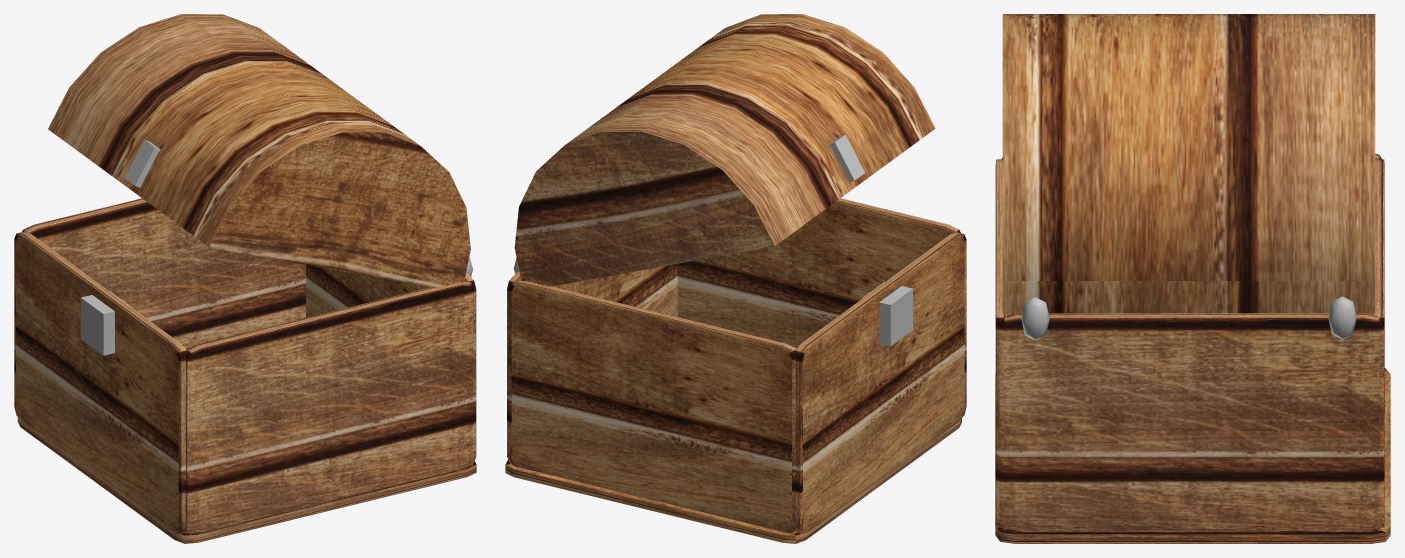
Rendered from TreasureChest_2_.fbx.
3 renders of one model, left to right at view 1: azimuth 30°, elevation 25°; view 2: azimuth 150°, elevation 25°; view 3: azimuth 270°, elevation 25°, orthographic. The views are drawn at different scales.
Visible parts, largest first — view 1: pCube10; view 2: pCube10; view 3: pCube10.
Boxes of the visible parts, x1,y1,x2,y2 form: pCube10: (14,14,476,543); pCube10: (505,14,966,543); pCube10: (995,14,1390,543).
Size of the model in its own units: 25.58 by 28.71 by 23.93.
